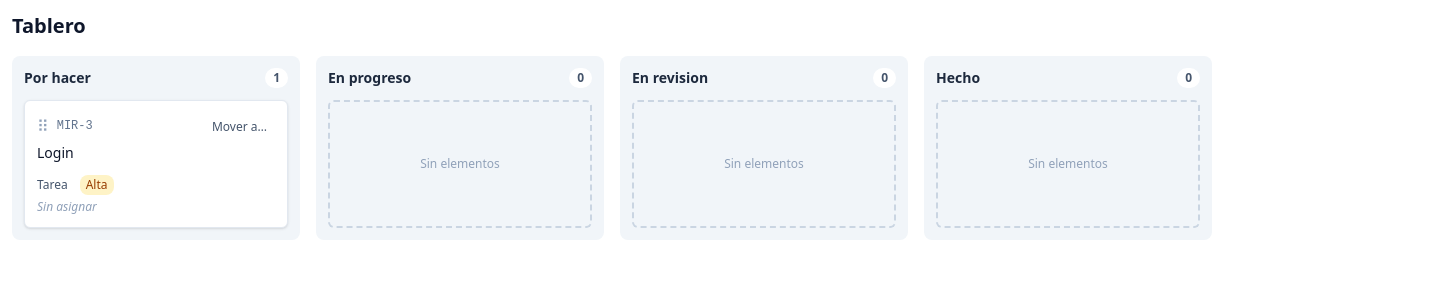
KanbanBoard › mover tarjetas con el menu "Mover a…" (MIR-19) › si la API responde con un error HTTP, devuelve la tarjeta a su columna y muestra el error
The width and height of the screenshot is (1452, 305).
Click the button "Mover a…" at (239, 127), box [204,115,275,139]
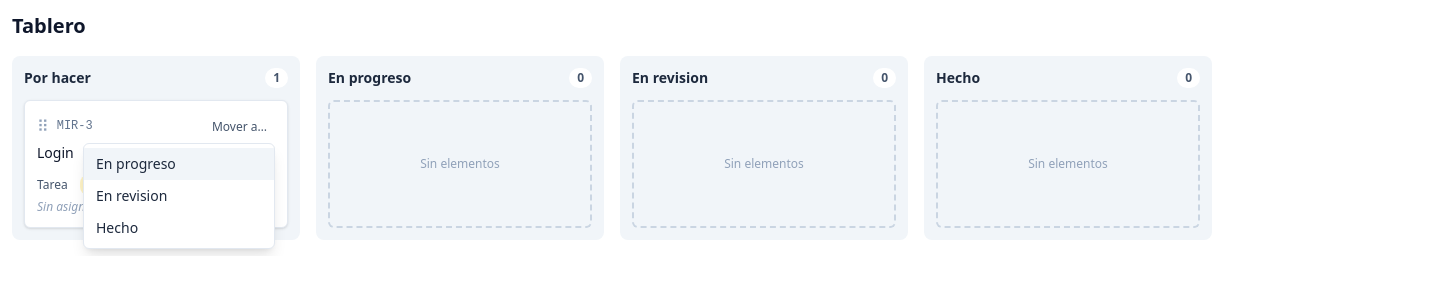
Click the menu item "Hecho" at (179, 228), box [84,212,274,244]
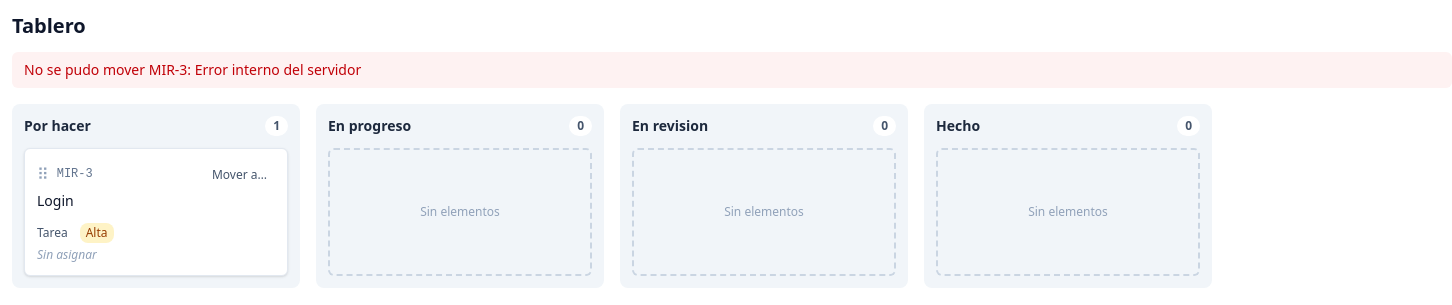
expect the message shows "No se pudo mover MIR-3": met, box [12,52,1451,88]
expect the message shows "Error interno del servidor": met, box [195,60,361,79]
